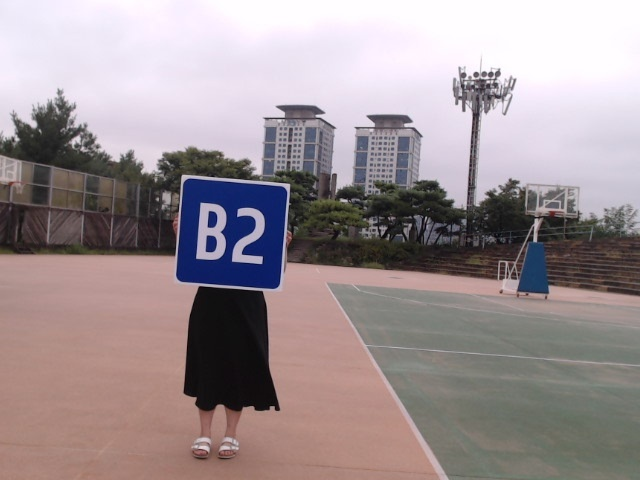delivery_b2: (174, 177, 289, 290)
